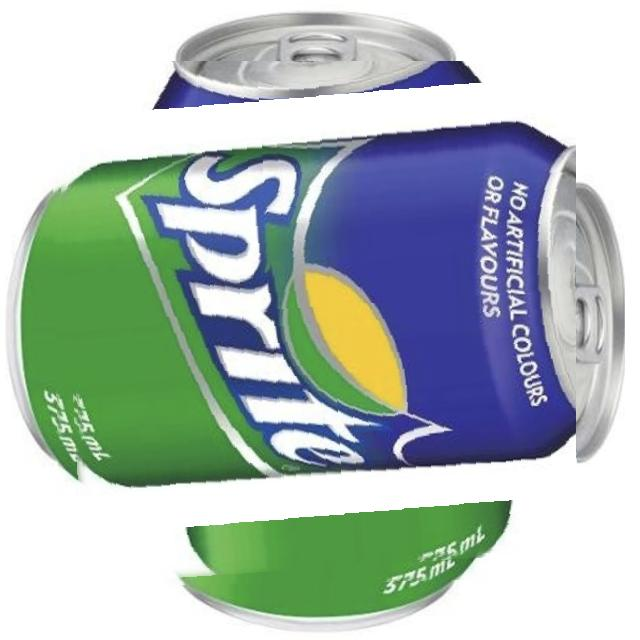recyclable: (53, 61, 576, 584)
